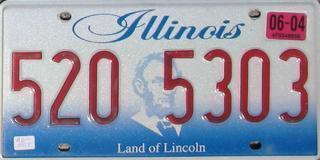placa de veiculo: (4, 4, 307, 148)
